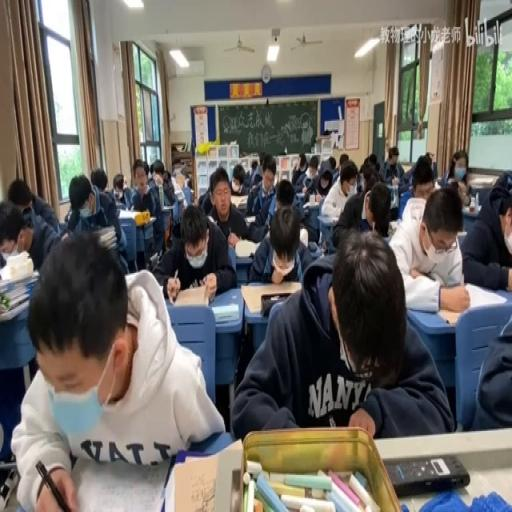calculator: (71, 450, 169, 510), (170, 452, 220, 512), (0, 261, 38, 320), (448, 280, 506, 313), (240, 280, 298, 313), (171, 282, 211, 307), (212, 302, 238, 322), (96, 224, 116, 248), (118, 206, 146, 222), (435, 307, 461, 324), (234, 238, 257, 256), (467, 175, 494, 188), (229, 193, 246, 209), (319, 213, 339, 225), (462, 205, 484, 215), (298, 224, 308, 244), (294, 188, 308, 202), (305, 196, 321, 208), (173, 188, 185, 202), (149, 249, 158, 267), (388, 219, 398, 233), (243, 214, 256, 224), (161, 203, 173, 212), (456, 229, 466, 236)
paper: (11, 230, 221, 510), (232, 230, 446, 441), (389, 181, 469, 310), (154, 199, 234, 299), (459, 170, 512, 292), (62, 174, 127, 273), (467, 296, 512, 432), (247, 202, 317, 287), (332, 171, 386, 250), (6, 176, 58, 239), (300, 160, 335, 224), (442, 148, 472, 202), (402, 152, 434, 196), (156, 164, 182, 210), (381, 145, 405, 186), (198, 174, 216, 214), (111, 172, 131, 206), (229, 164, 248, 198), (291, 152, 310, 186), (274, 178, 294, 209), (358, 164, 378, 192), (245, 155, 261, 189), (90, 165, 108, 192), (344, 159, 358, 179), (396, 179, 410, 196), (320, 176, 331, 194), (338, 174, 350, 190), (366, 152, 377, 168), (309, 155, 318, 172), (328, 155, 337, 171), (338, 154, 348, 168), (153, 171, 162, 186), (141, 160, 148, 178), (149, 160, 155, 178), (259, 154, 266, 168), (185, 175, 192, 189), (426, 151, 432, 162)
person: (386, 454, 470, 496), (228, 468, 241, 510), (308, 240, 318, 252), (320, 239, 327, 253)
